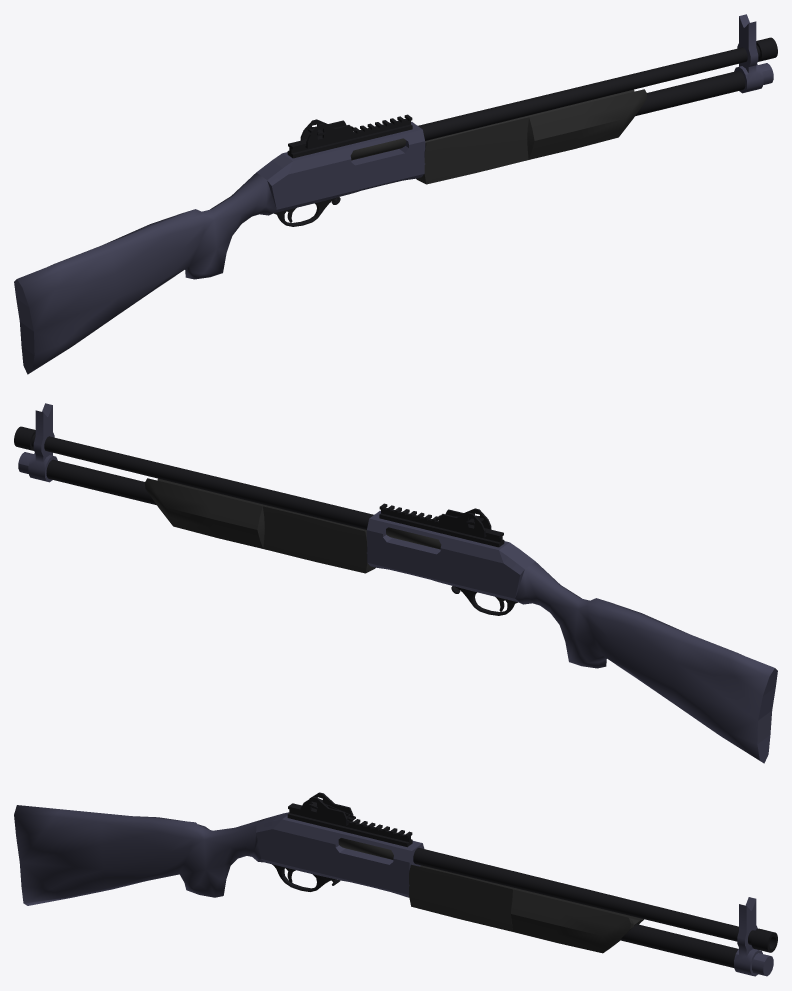
The model's file is Shotgun_SDASS.obj.
3 views of the same model, one above another, from view 1: azimuth 30°, elevation 25°; view 2: azimuth 150°, elevation 25°; view 3: azimuth 330°, elevation 25° (orthographic).
Parts seen in each view (by area): view 1: SDASS, Pump, Barrel, Slide, Scope_Track, Sight, ScopeFrame; view 2: SDASS, Pump, Barrel, Slide, Scope_Track, Sight, ScopeFrame; view 3: SDASS, Pump, Barrel, Slide, Sight, Scope_Track, ScopeFrame, Chamber, trigger_guard.
Part boxes in pixels (left/top/right/bottom): SDASS: left=14, top=121, right=425, bottom=374; Pump: left=416, top=89, right=646, bottom=184; Barrel: left=418, top=37, right=777, bottom=140; Slide: left=635, top=70, right=745, bottom=116; Scope_Track: left=287, top=114, right=412, bottom=158; Sight: left=734, top=14, right=773, bottom=93; ScopeFrame: left=300, top=119, right=353, bottom=148; SDASS: left=366, top=510, right=777, bottom=763; Pump: left=145, top=478, right=375, bottom=573; Barrel: left=14, top=426, right=373, bottom=529; Slide: left=46, top=459, right=156, bottom=505; Scope_Track: left=379, top=503, right=504, bottom=547; Sight: left=18, top=403, right=57, bottom=482; ScopeFrame: left=438, top=508, right=491, bottom=537; SDASS: left=14, top=805, right=424, bottom=905; Pump: left=409, top=864, right=643, bottom=953; Barrel: left=413, top=848, right=777, bottom=952; Slide: left=620, top=924, right=738, bottom=967; Sight: left=734, top=897, right=773, bottom=976; Scope_Track: left=287, top=803, right=412, bottom=847; ScopeFrame: left=300, top=792, right=353, bottom=825; Chamber: left=338, top=838, right=393, bottom=859; trigger_guard: left=272, top=864, right=335, bottom=891.
Size of the model in its own units: 9.62 by 2.21 by 0.5275.
